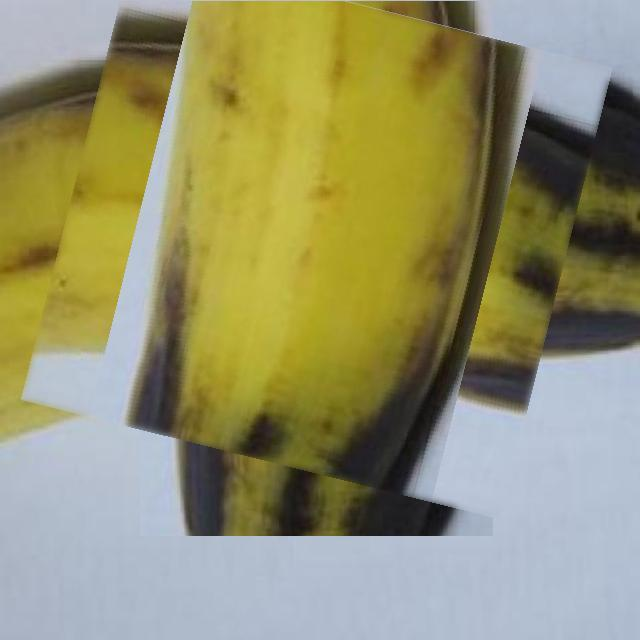Muito Madura: (46, 0, 589, 493)
